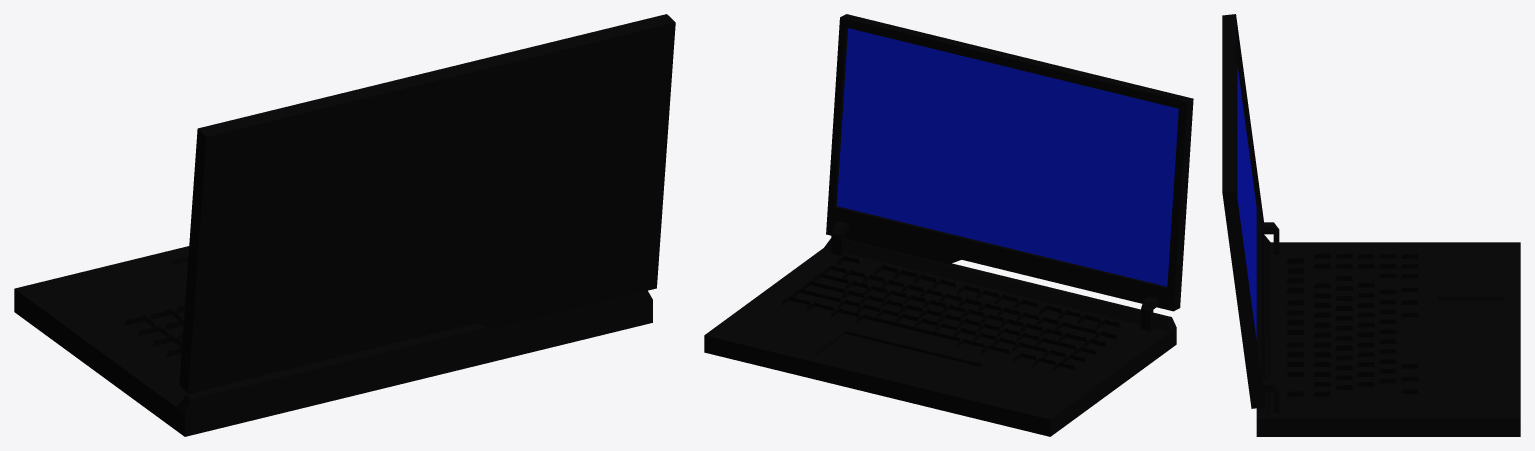
The model's file is LAPTOP.fbx.
The picture shows the model from 3 angles, left to right: view 1: azimuth 30°, elevation 25°; view 2: azimuth 150°, elevation 25°; view 3: azimuth 270°, elevation 25°; orthographic projection. The views are drawn at different scales.
Visible parts, largest first — view 1: altkasa; view 2: altkasa; view 3: altkasa.
Boxes of the visible parts, x1=… form: altkasa: x1=14, y1=14, x2=675, y2=436; altkasa: x1=704, y1=14, x2=1193, y2=436; altkasa: x1=1222, y1=14, x2=1520, y2=436.
Size of the model in its own units: 473 by 307 by 337.
